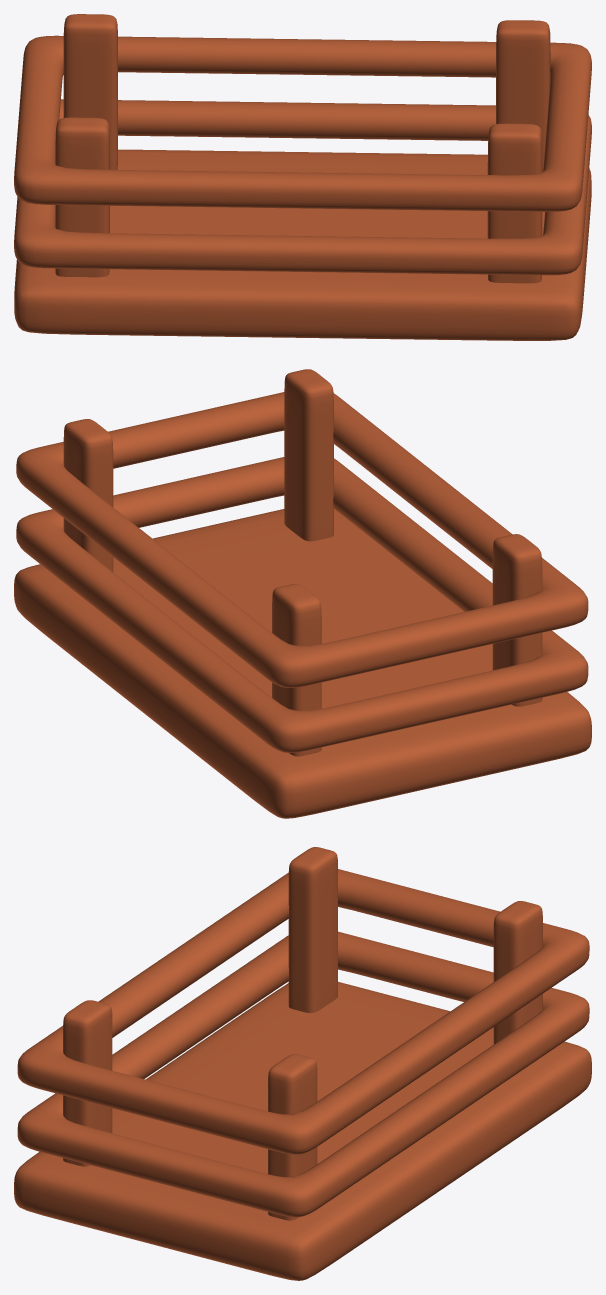
The model's file is market-box1.fbx.
The picture shows the model from 3 angles, top to bottom: view 1: azimuth 30°, elevation 25°; view 2: azimuth 150°, elevation 25°; view 3: azimuth 270°, elevation 25°; orthographic projection. The views are drawn at different scales.
Parts seen in each view (by area): view 1: Plane.080; view 2: Plane.080; view 3: Plane.080.
Part boxes in pixels (x1,y1,x2,y2): Plane.080: (14,14,591,340); Plane.080: (14,369,591,818); Plane.080: (14,847,591,1280).
Bounding box in the file's own units: 117 × 38.6 × 105.
